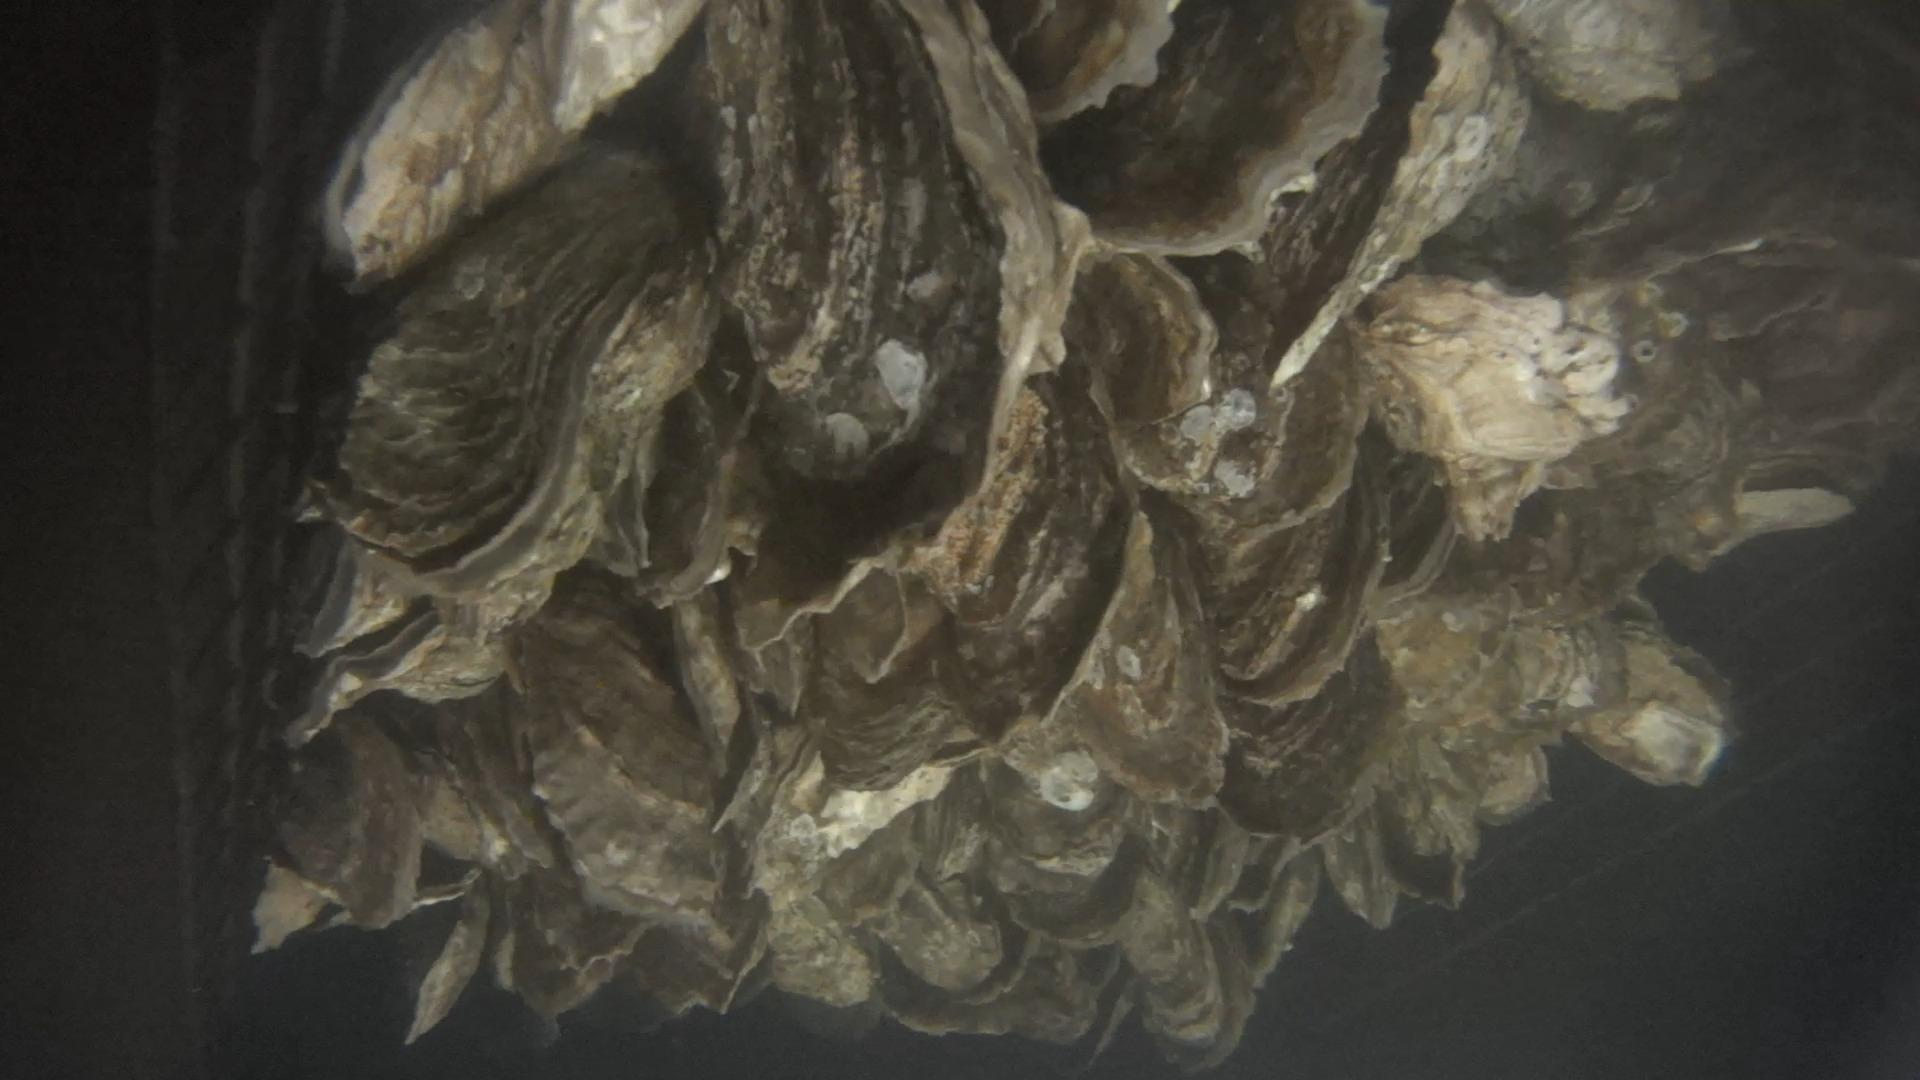3: (309, 132, 702, 603), (1035, 0, 1390, 266), (932, 367, 1149, 749), (316, 0, 592, 294), (529, 578, 720, 928), (1166, 323, 1360, 558), (1236, 460, 1399, 704), (1429, 115, 1683, 272), (733, 717, 947, 903), (620, 382, 752, 615), (1067, 260, 1218, 440), (982, 0, 1189, 129), (280, 613, 446, 754), (439, 708, 556, 870), (866, 873, 1007, 994), (290, 527, 413, 657), (584, 409, 671, 576), (820, 811, 916, 923), (919, 765, 993, 884), (402, 637, 505, 702), (492, 694, 541, 823), (1738, 431, 1867, 479)
Oyster- Indeterminate: (1453, 293, 1750, 537), (512, 261, 717, 585), (1588, 57, 1869, 290), (1375, 576, 1635, 753), (1213, 615, 1406, 836), (1122, 256, 1295, 493), (906, 385, 1051, 616), (1472, 0, 1750, 112), (1502, 472, 1668, 629), (1571, 621, 1721, 783), (877, 939, 1096, 1046), (1139, 911, 1250, 1069), (1122, 877, 1226, 1042), (493, 898, 629, 1014), (762, 881, 870, 1004), (618, 930, 765, 1018), (1763, 287, 1895, 382), (1705, 481, 1858, 559), (1387, 725, 1480, 853), (1419, 736, 1551, 824), (529, 872, 655, 963), (1791, 349, 1919, 429), (1242, 853, 1317, 986), (1044, 960, 1131, 1073), (1323, 804, 1395, 932), (1386, 806, 1466, 909), (251, 853, 326, 957), (469, 968, 562, 1050), (1712, 272, 1815, 343), (783, 990, 882, 1040), (585, 977, 670, 1035)
Oyster-Closed: (679, 0, 980, 477), (1258, 3, 1532, 390), (1360, 277, 1646, 464), (976, 723, 1205, 951), (1062, 520, 1230, 810), (273, 707, 423, 928), (1221, 504, 1345, 680), (547, 0, 711, 132), (820, 657, 948, 789), (398, 881, 484, 1050), (404, 740, 506, 870), (819, 564, 907, 703), (676, 587, 737, 771), (1377, 505, 1469, 609), (736, 612, 814, 717), (439, 583, 546, 649), (717, 705, 774, 824), (1187, 818, 1247, 920)
